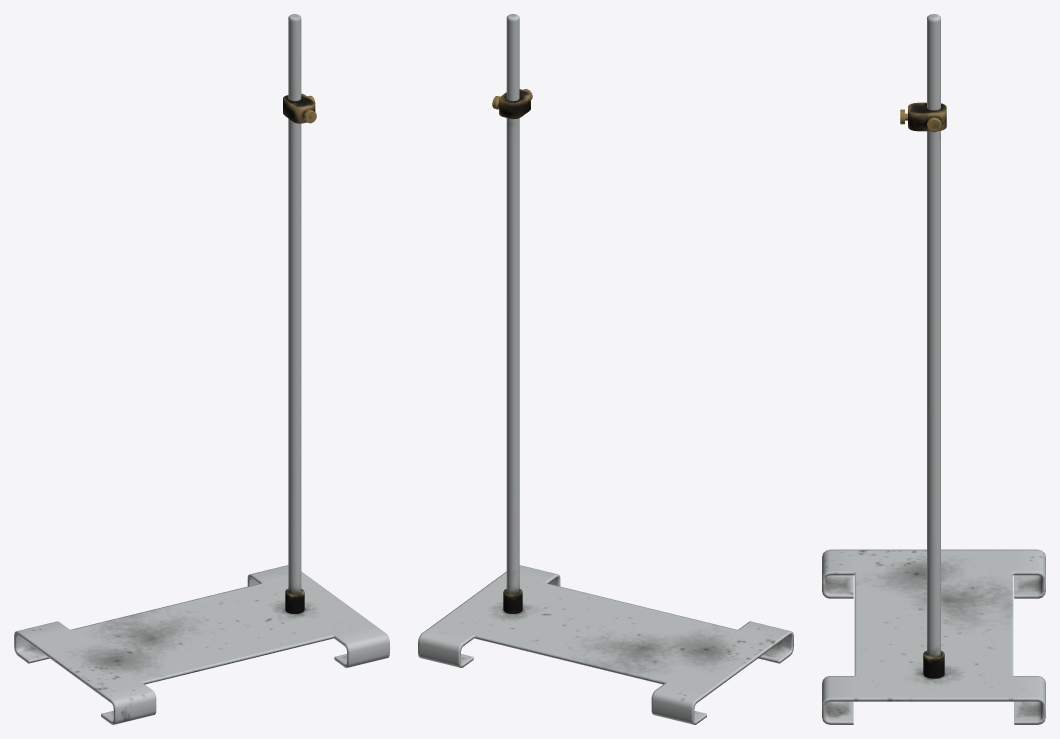
The model's file is clamp_stand.glb.
3 views of the same model, side by side, from view 1: azimuth 30°, elevation 25°; view 2: azimuth 150°, elevation 25°; view 3: azimuth 270°, elevation 25° (orthographic). The views are drawn at different scales.
Parts seen in each view (by area): view 1: chemistry_set_clamp_stand.001; view 2: chemistry_set_clamp_stand.001; view 3: chemistry_set_clamp_stand.001.
Part boxes in pixels (x1,y1,x2,y2): chemistry_set_clamp_stand.001: (14,14,389,724); chemistry_set_clamp_stand.001: (418,14,793,724); chemistry_set_clamp_stand.001: (822,14,1045,724).
Size of the model in its own units: 0.1954 by 0.4199 by 0.1245.
1 material, 1 textured.
